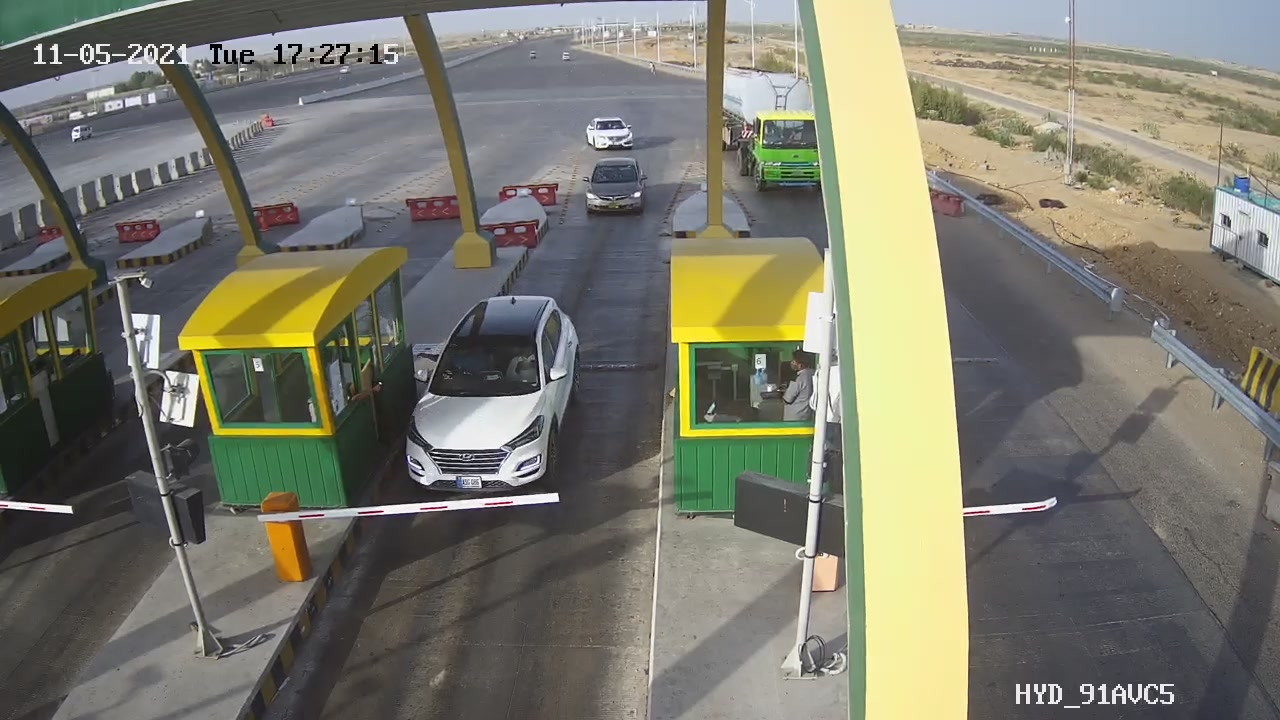F1: (395, 273, 607, 504)
